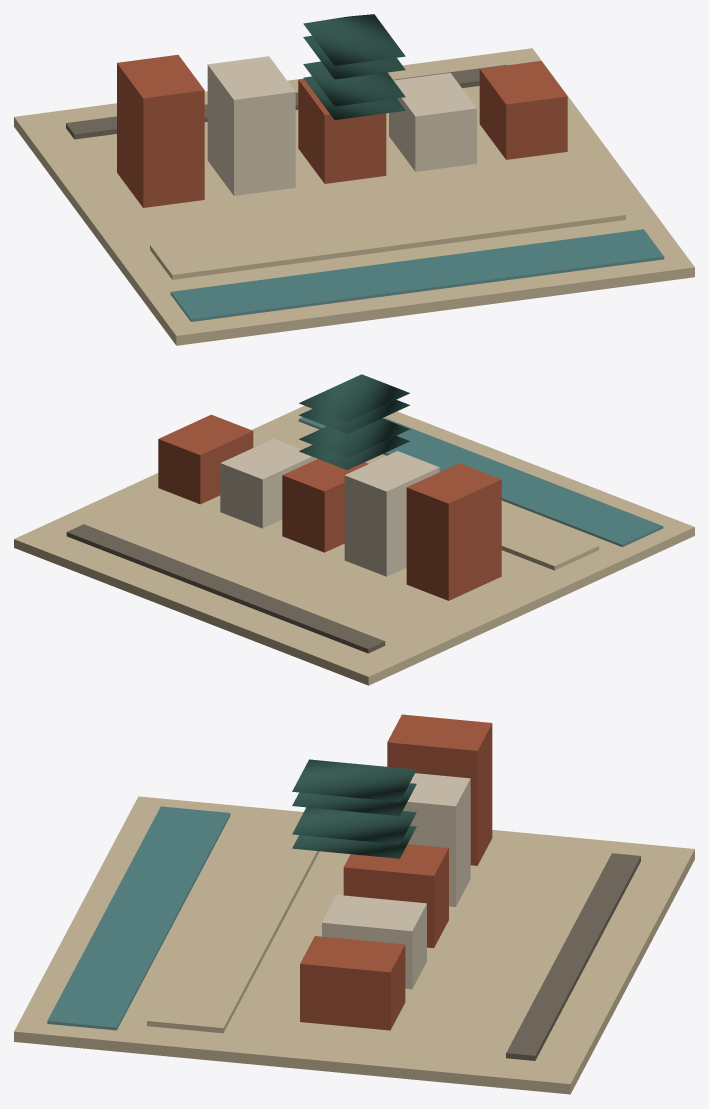
The model's file is model-medium.glb.
The picture shows the model from 3 angles, top to bottom: view 1: azimuth 30°, elevation 25°; view 2: azimuth 150°, elevation 25°; view 3: azimuth 270°, elevation 25°; orthographic projection. The views are drawn at different scales.
Visible parts, largest first — view 1: context_site_plinth, street_public_axis, context_water_edge, street_facade_0, street_facade_1, street_facade_4, street_facade_3, street_facade_2, street_roof_0, street_roof_2, front_scale_strip, street_roof_1 (+1 smaller); view 2: context_site_plinth, street_facade_0, context_water_edge, street_facade_1, front_scale_strip, street_facade_4, street_facade_3, street_facade_2, street_public_axis, street_roof_0, street_roof_2, street_roof_3 (+1 smaller); view 3: context_site_plinth, street_public_axis, context_water_edge, street_facade_4, street_facade_0, front_scale_strip, street_facade_2, street_facade_1, street_facade_3, street_roof_0, street_roof_2, street_roof_1 (+1 smaller).
Part boxes in pixels (x1,y1,x2,y2): context_site_plinth: [14, 48, 694, 345]; street_public_axis: [150, 185, 625, 279]; context_water_edge: [170, 229, 664, 321]; street_facade_0: [117, 54, 204, 207]; street_facade_1: [207, 56, 295, 195]; street_facade_4: [479, 61, 567, 159]; street_facade_3: [389, 73, 476, 171]; street_facade_2: [298, 78, 386, 183]; street_roof_0: [303, 14, 405, 65]; street_roof_2: [303, 61, 405, 106]; front_scale_strip: [66, 64, 506, 139]; street_roof_1: [303, 29, 405, 79]; context_site_plinth: [14, 405, 694, 685]; street_facade_0: [406, 463, 501, 600]; context_water_edge: [298, 417, 663, 547]; street_facade_1: [344, 451, 439, 576]; front_scale_strip: [66, 524, 385, 653]; street_facade_4: [158, 414, 253, 504]; street_facade_3: [220, 438, 315, 528]; street_facade_2: [282, 459, 368, 552]; street_public_axis: [253, 425, 599, 570]; street_roof_0: [299, 374, 409, 421]; street_roof_2: [299, 418, 409, 458]; street_roof_3: [299, 435, 409, 470]; context_site_plinth: [14, 796, 694, 1094]; street_public_axis: [147, 815, 319, 1033]; context_water_edge: [47, 806, 230, 1030]; street_facade_4: [300, 936, 405, 1030]; street_facade_0: [387, 714, 492, 865]; front_scale_strip: [506, 853, 640, 1060]; street_facade_2: [343, 844, 448, 948]; street_facade_1: [403, 773, 470, 906]; street_facade_3: [322, 895, 426, 989]; street_roof_0: [292, 759, 416, 801]; street_roof_2: [292, 807, 416, 844]; street_roof_1: [292, 783, 416, 815].
Bounding box in the file's own units: 9.55 × 2.89 × 9.55.
